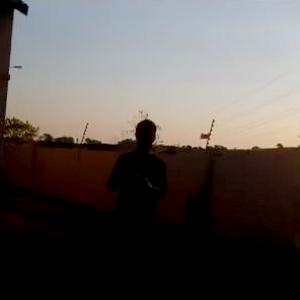follow: (98, 117, 169, 299)
